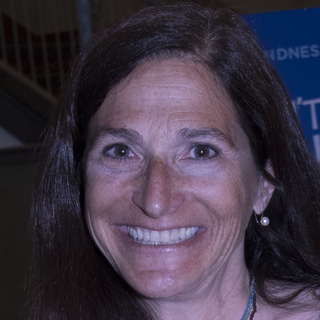eye: (180, 139, 228, 165), (98, 139, 141, 164)
